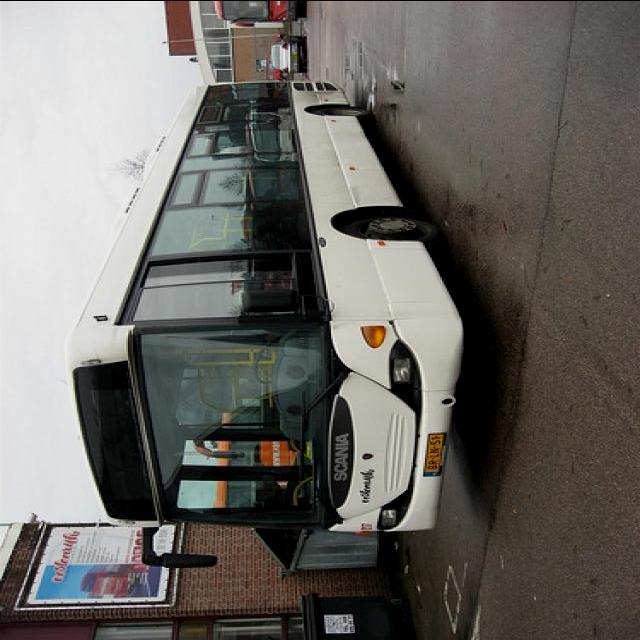bus: (66, 78, 469, 570)
